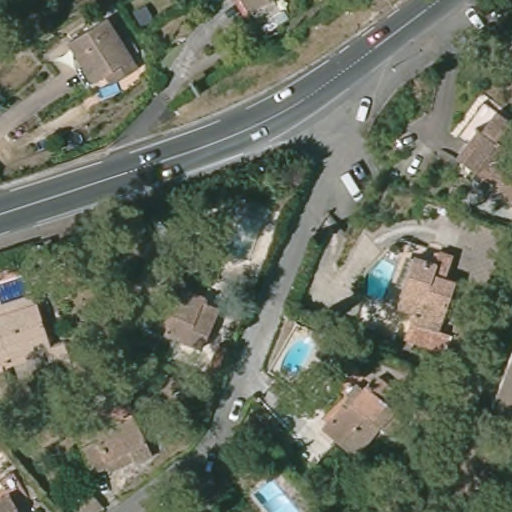pool: (361, 256, 394, 303), (251, 480, 299, 512), (283, 334, 313, 375), (1, 278, 36, 305), (94, 81, 127, 103)
